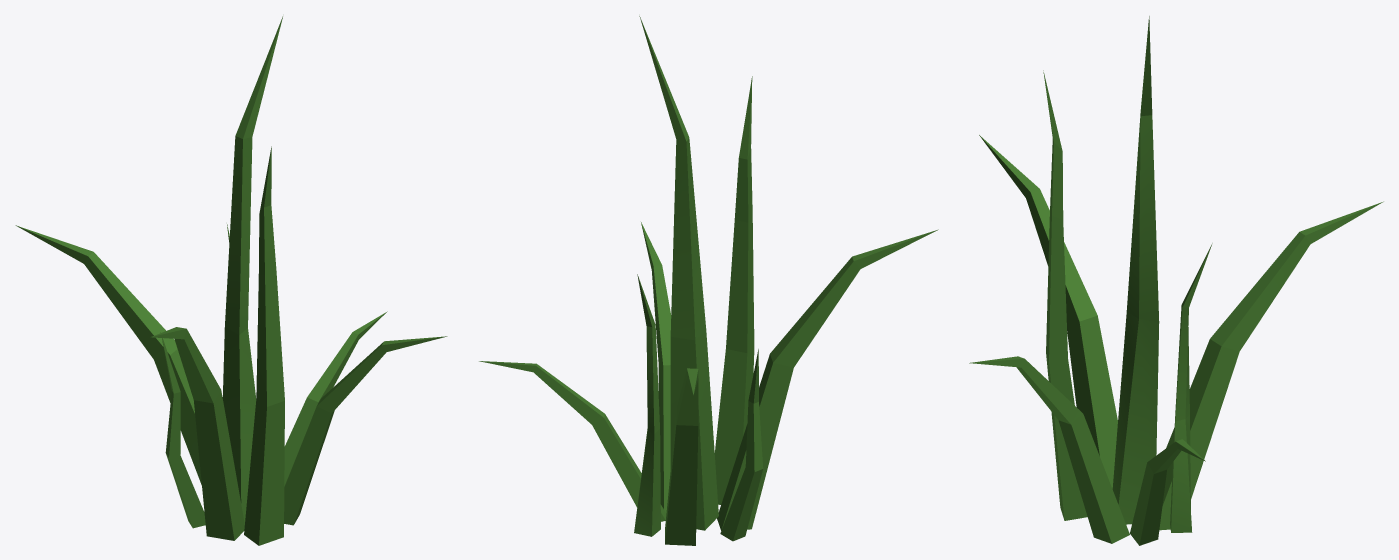
Rendered from 深色小草.fbx.
3 views of the same model, side by side, from view 1: azimuth 30°, elevation 25°; view 2: azimuth 150°, elevation 25°; view 3: azimuth 270°, elevation 25° (orthographic). The views are drawn at different scales.
Visible parts, largest first — view 1: Grass3.002; view 2: Grass3.002; view 3: Grass3.002.
Part boxes in pixels (x1=…): Grass3.002: x1=15, y1=16, x2=447, y2=545; Grass3.002: x1=479, y1=16, x2=938, y2=545; Grass3.002: x1=969, y1=16, x2=1383, y2=545.
Bounding box in the file's own units: 35.16 × 48.48 × 34.05.
